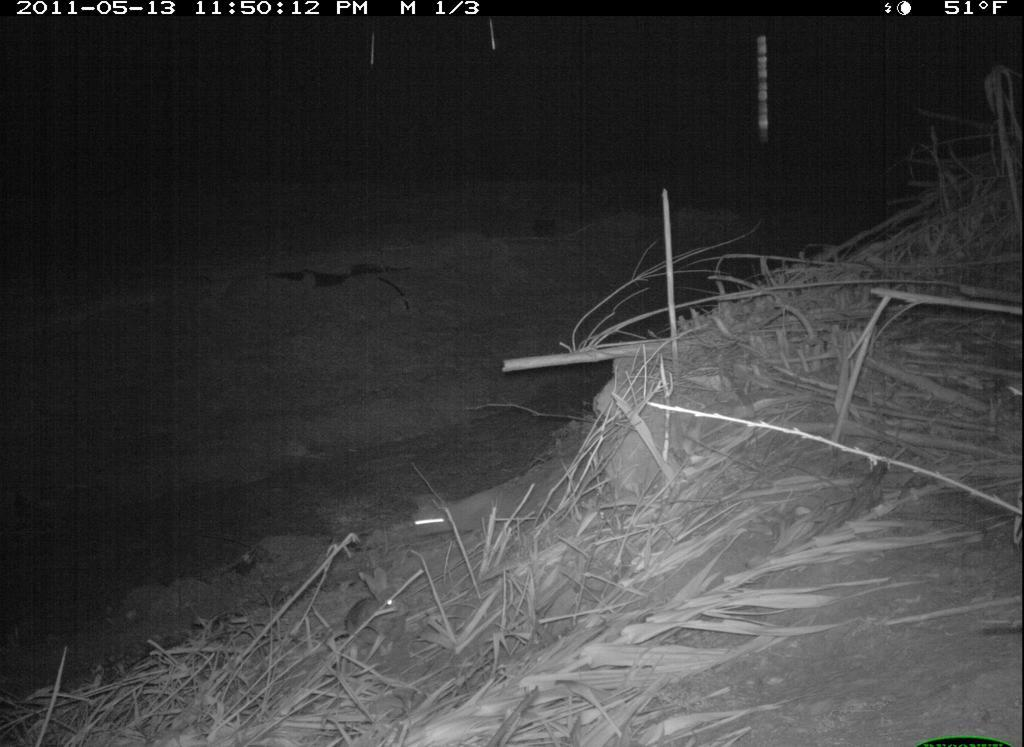rabbit: (324, 556, 423, 678)
